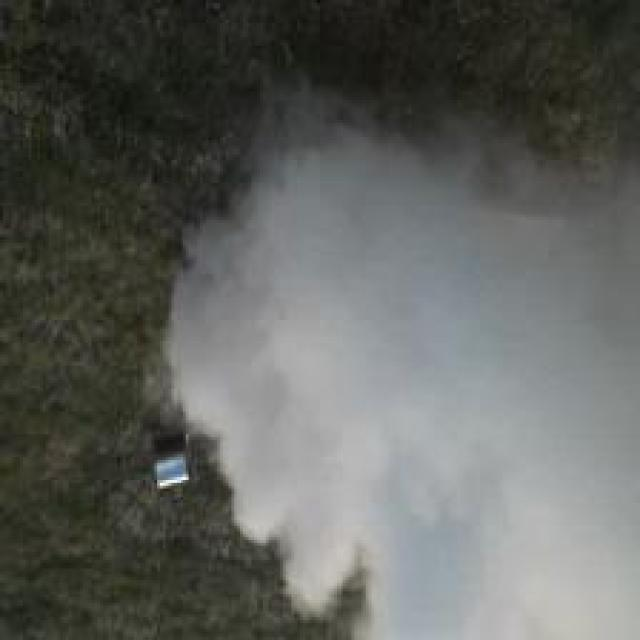Smoke: (164, 134, 640, 637)
